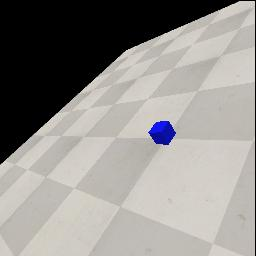box: (148, 121, 176, 145)
